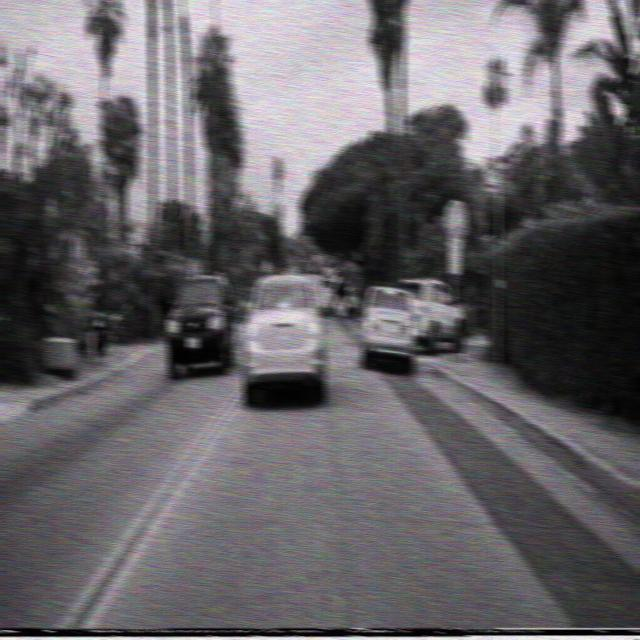stop_sign: (443, 199, 468, 240)
